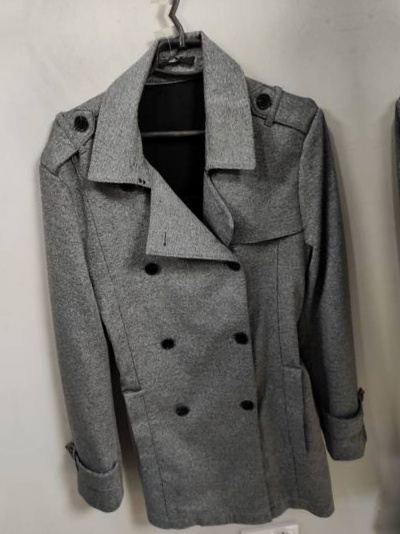Blazer: (4, 24, 388, 534), (367, 0, 400, 500), (0, 0, 327, 7), (0, 68, 2, 534)
